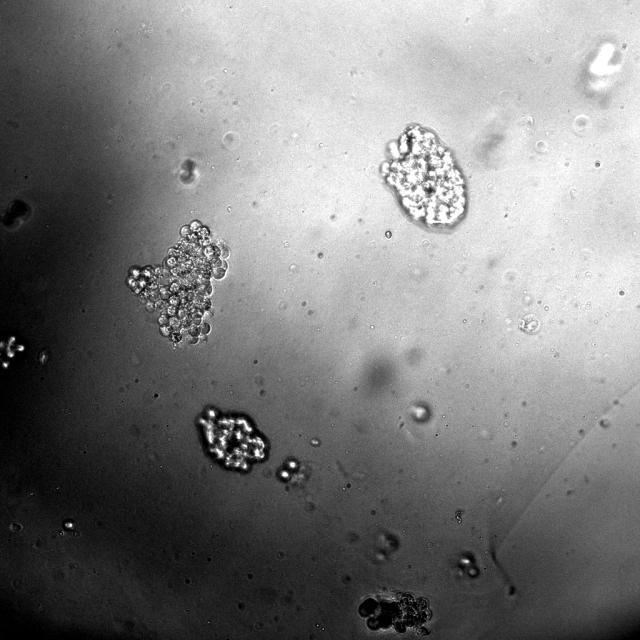organoid: (127, 220, 229, 344), (380, 123, 467, 227), (196, 405, 268, 472), (358, 592, 432, 636), (0, 198, 32, 231), (0, 336, 24, 369), (179, 158, 195, 183), (9, 522, 22, 532)
